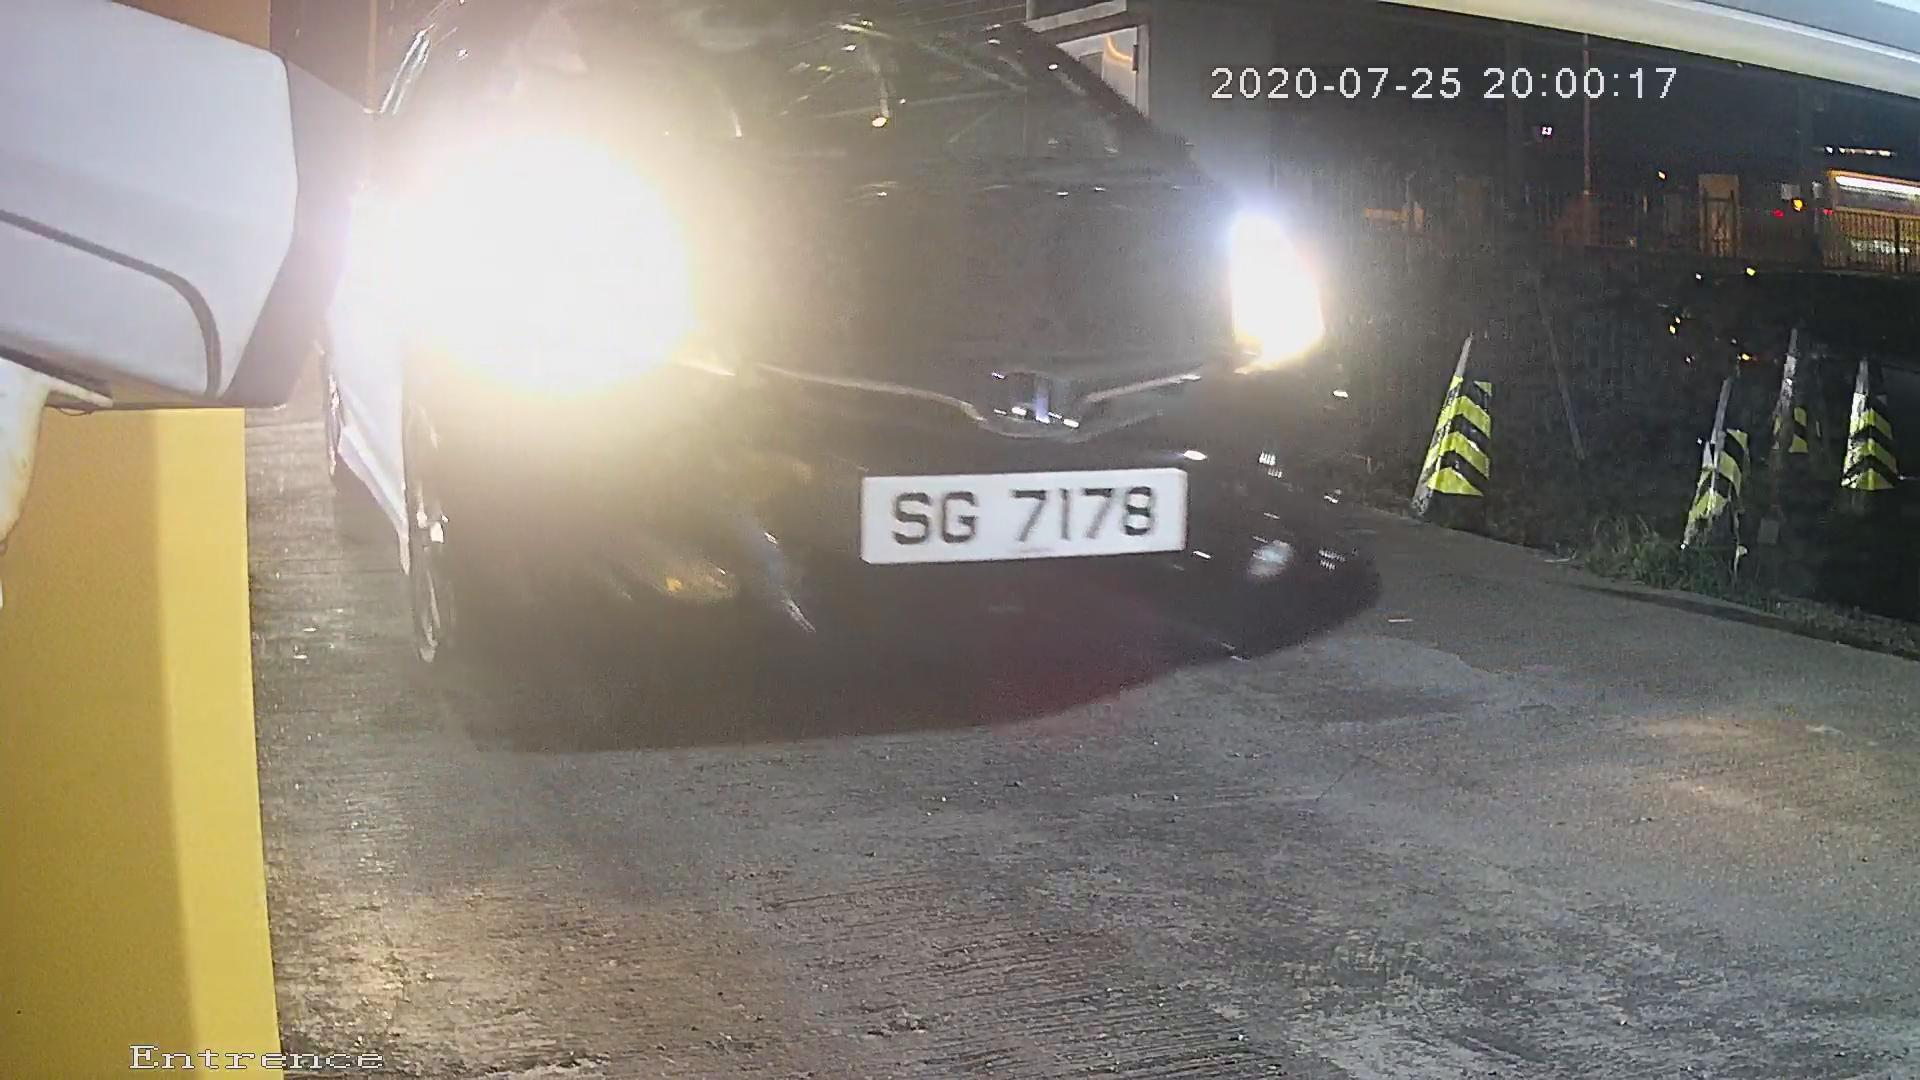privatecar: (276, 1, 1509, 733)
